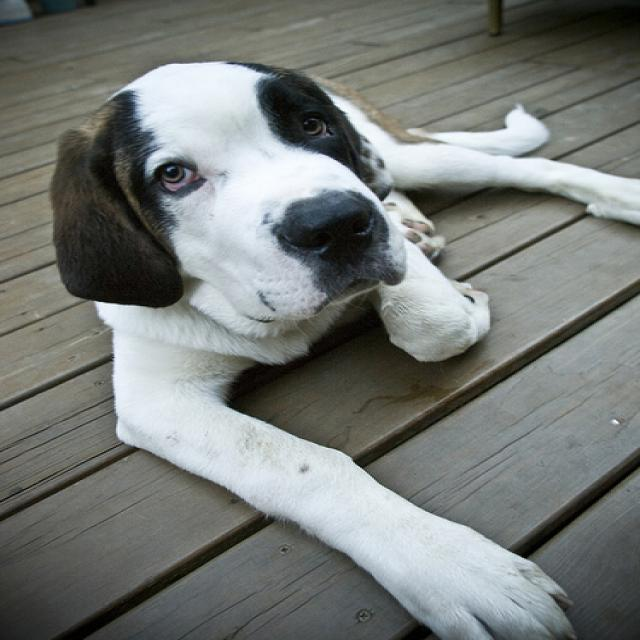dog: (49, 60, 404, 319)
